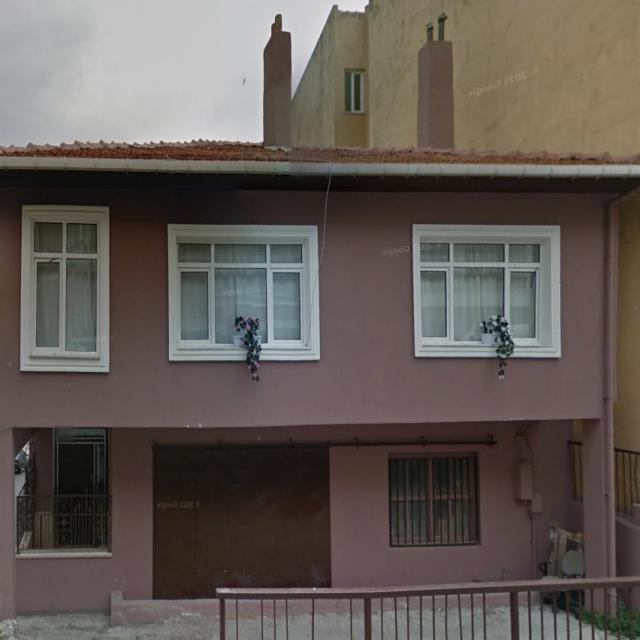Building: (0, 139, 640, 624)
